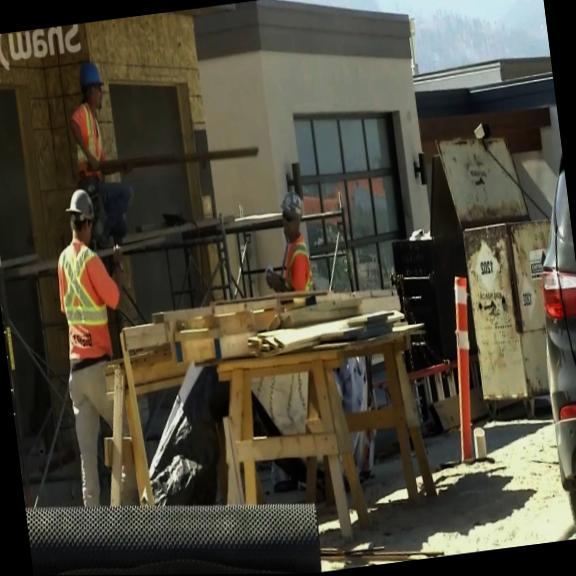safety_vest: (54, 234, 128, 364), (69, 100, 107, 178), (279, 236, 313, 292)
